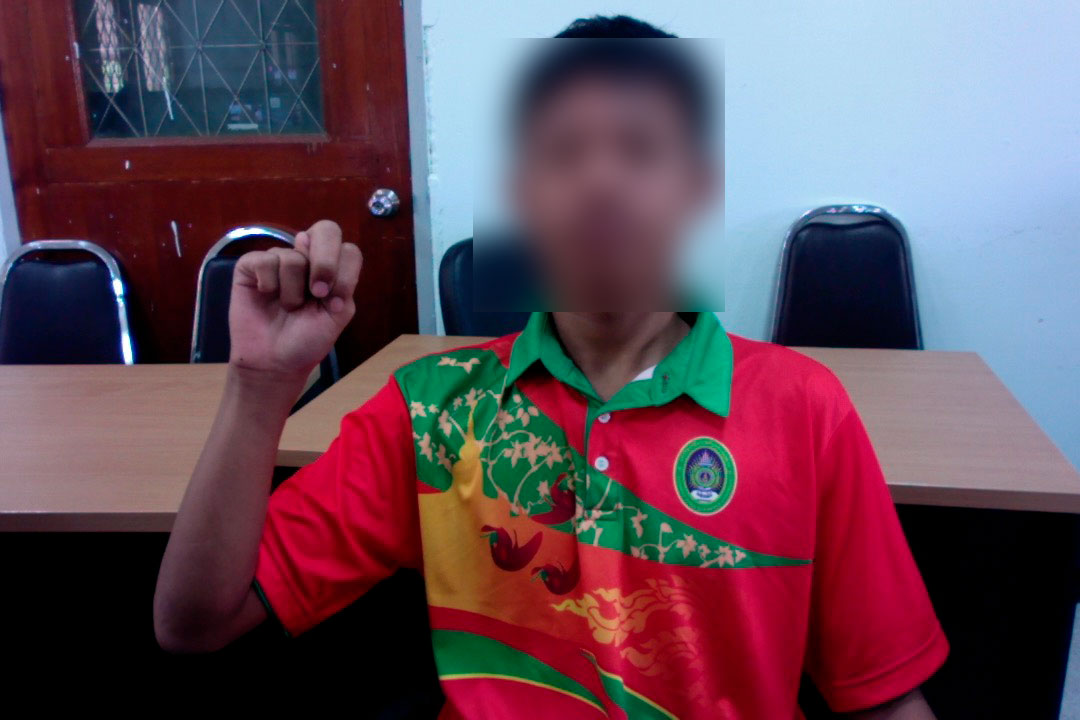nor: (223, 200, 365, 426)
